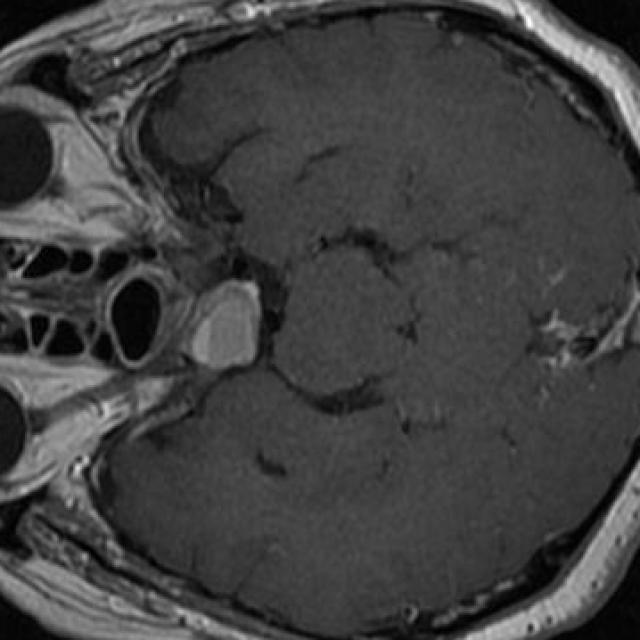pituitary: (189, 280, 258, 373)
